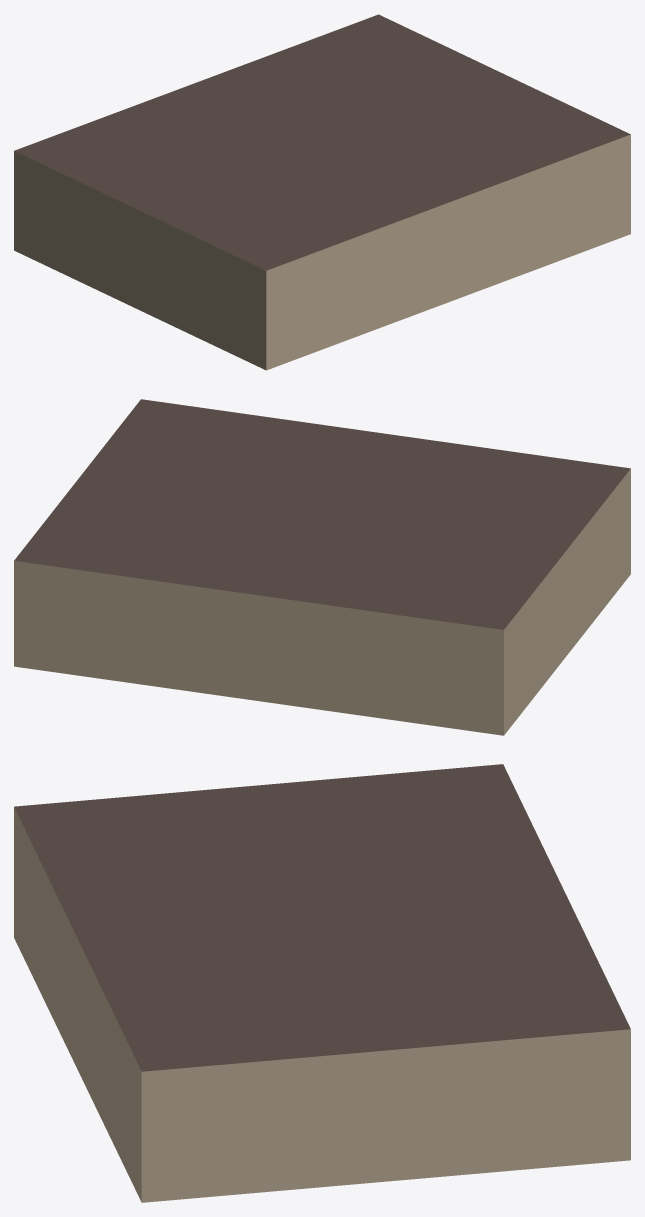
3 views of the same model, one above another, from view 1: azimuth 30°, elevation 25°; view 2: azimuth 150°, elevation 25°; view 3: azimuth 270°, elevation 25° (orthographic). The views are drawn at different scales.
Parts seen in each view (by area): view 1: HP-w682223765; view 2: HP-w682223765; view 3: HP-w682223765.
Boxes of the visible parts, x1,y1,x2,y2 form: HP-w682223765: [14, 14, 630, 370]; HP-w682223765: [14, 399, 630, 735]; HP-w682223765: [14, 764, 630, 1202].
Bounding box in the file's own units: 30.2 × 6 × 25.59.
